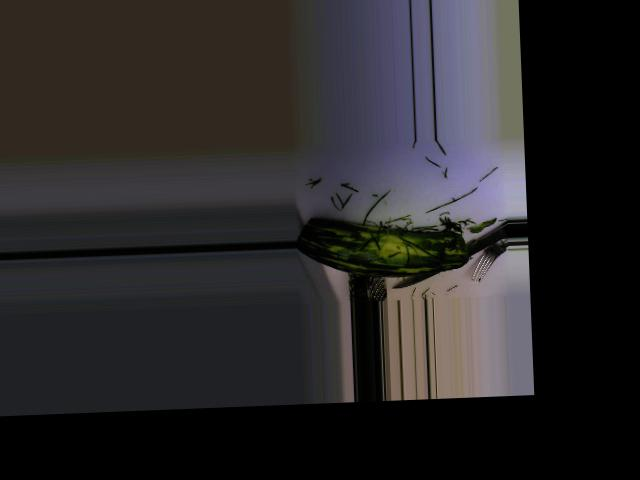cucumber: (296, 211, 470, 280)
